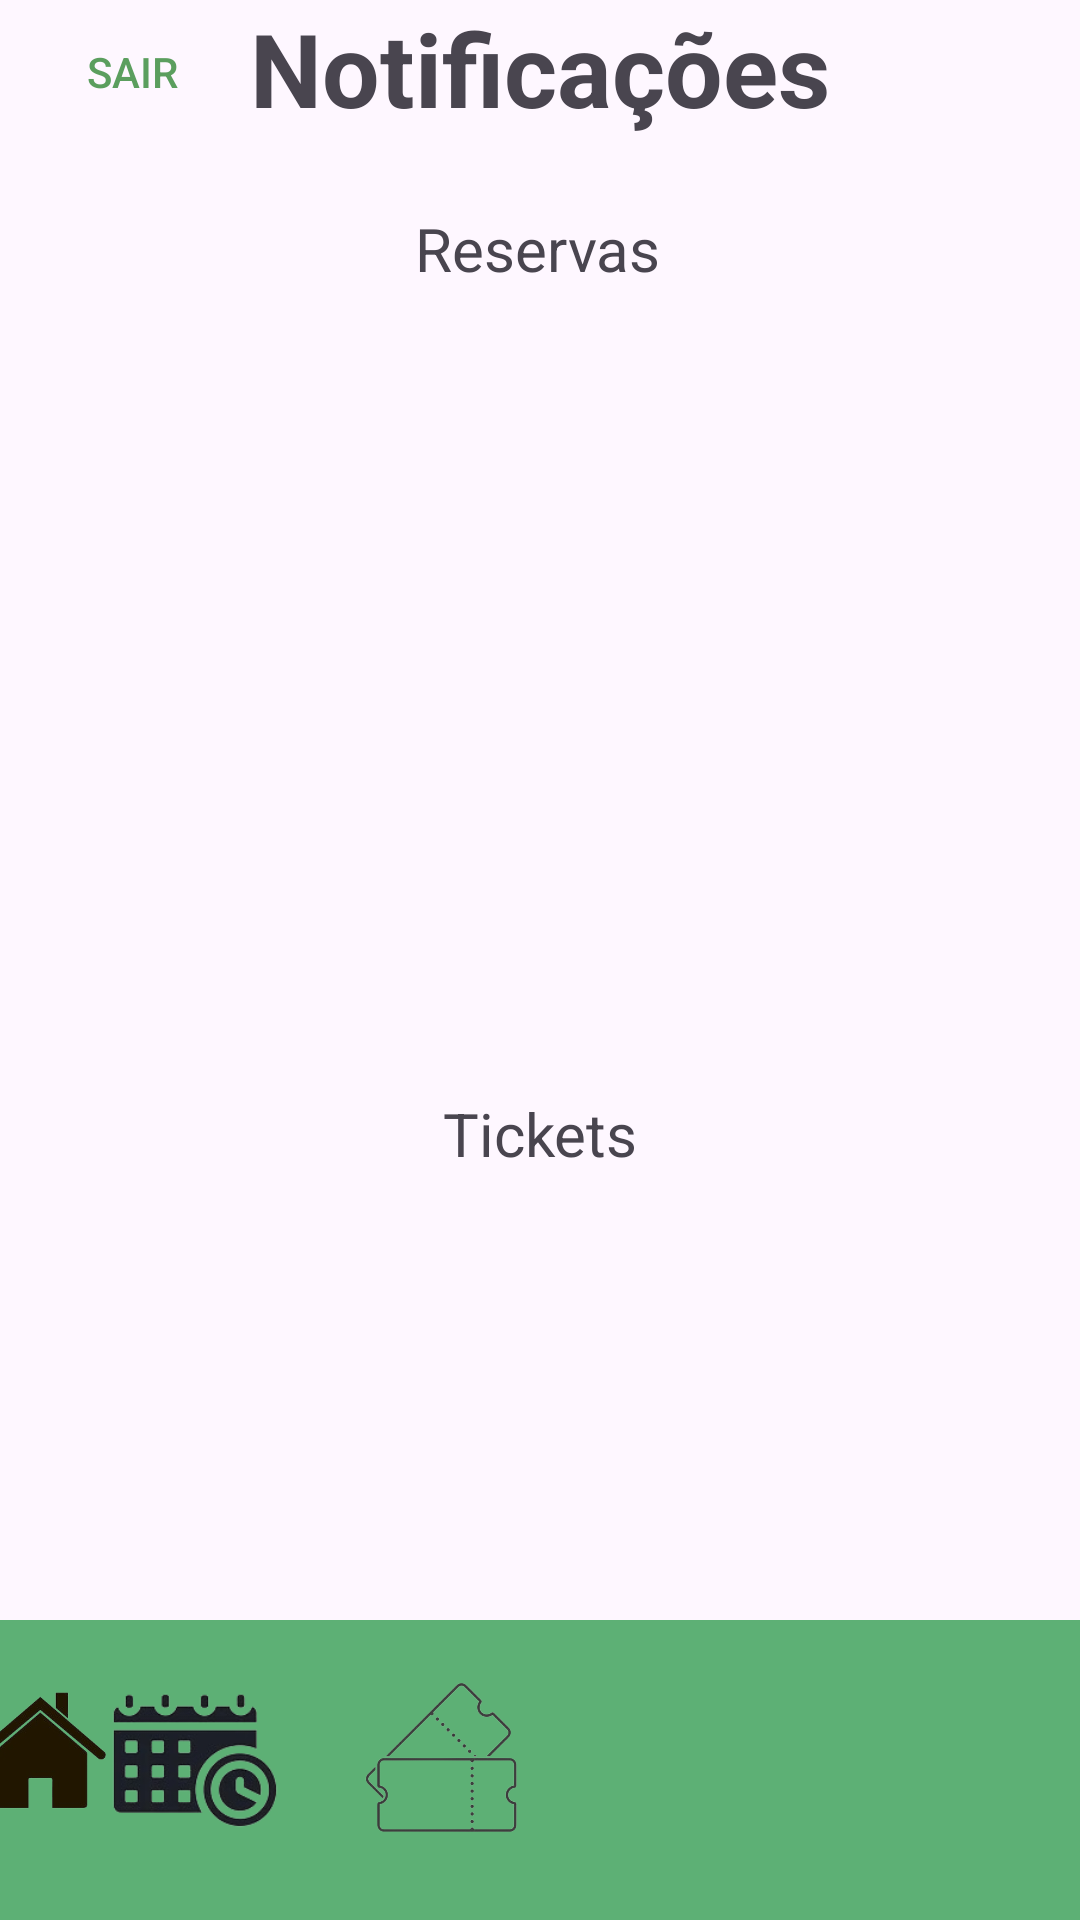

Screen size 1080px×1920px. Icon name, then its center in pixels as (x=x, y=y):
reserva: (x=195, y=1760)
ticket: (x=441, y=1757)
